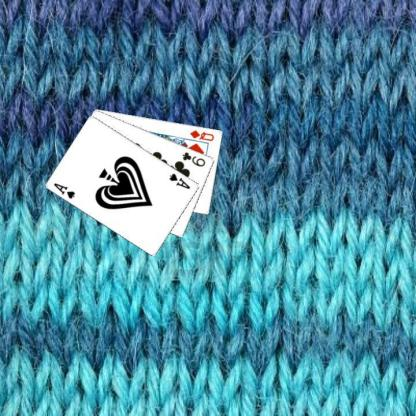9C: (180, 149, 207, 168)
AS: (52, 180, 76, 200), (167, 171, 192, 190)
QD: (188, 127, 215, 142)
